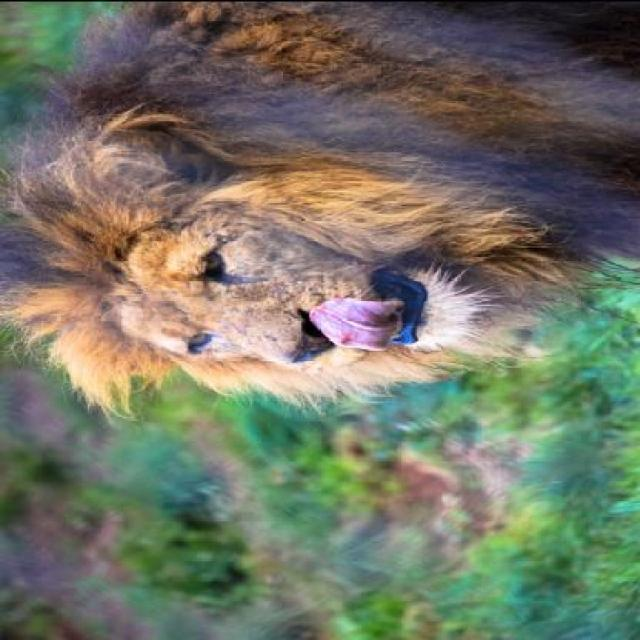Lion: (12, 3, 638, 431)
